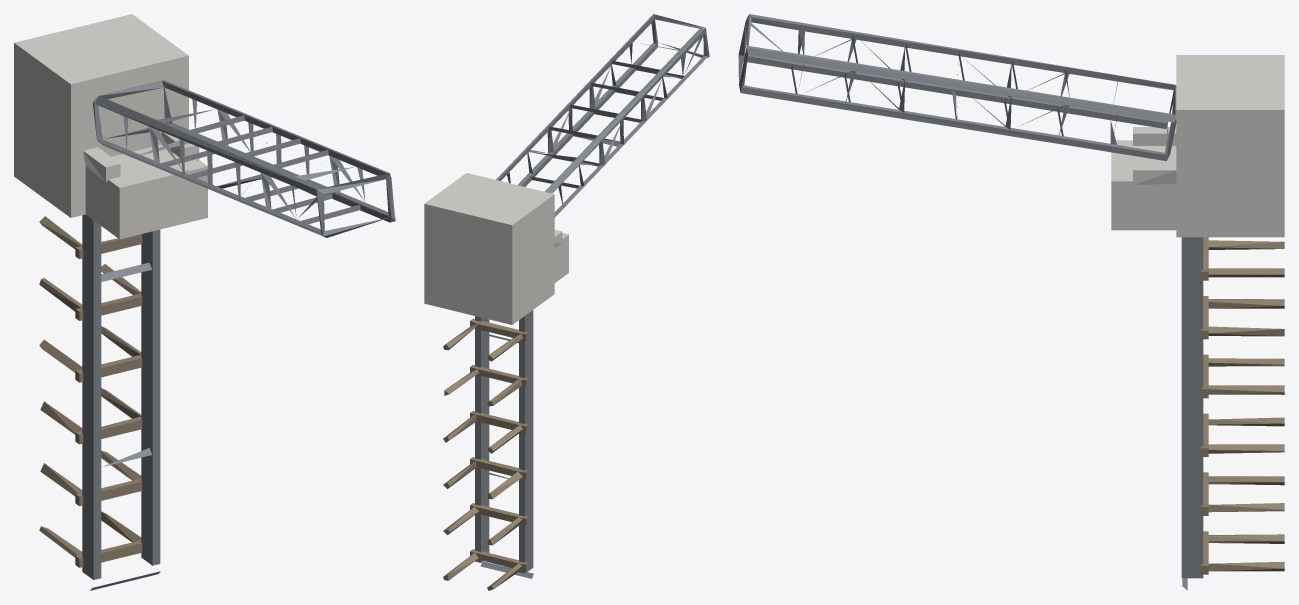
The model's file is r-106-crook-point-bascule-bridge.lod1.glb.
3 views of the same model, side by side, from view 1: azimuth 30°, elevation 25°; view 2: azimuth 150°, elevation 25°; view 3: azimuth 270°, elevation 25° (orthographic). The views are drawn at different scales.
Parts seen in each view (by area): view 1: pier, raised-leaf, approach-girders, trestle-piles; view 2: pier, raised-leaf, approach-girders, trestle-piles; view 3: pier, raised-leaf, trestle-piles, approach-girders.
Part boxes in pixels (<box>): pier: <box>14,14,207,239</box>; raised-leaf: <box>93,80,395,237</box>; approach-girders: <box>82,214,160,590</box>; trestle-piles: <box>39,216,142,567</box>; pier: <box>424,173,568,324</box>; raised-leaf: <box>496,14,709,217</box>; approach-girders: <box>475,310,533,578</box>; trestle-piles: <box>443,318,528,590</box>; pier: <box>1111,55,1284,237</box>; raised-leaf: <box>738,14,1176,160</box>; trestle-piles: <box>1201,237,1284,574</box>; approach-girders: <box>1181,237,1203,590</box>.
Size of the model in its own units: 11999 by 55461 by 50487.
